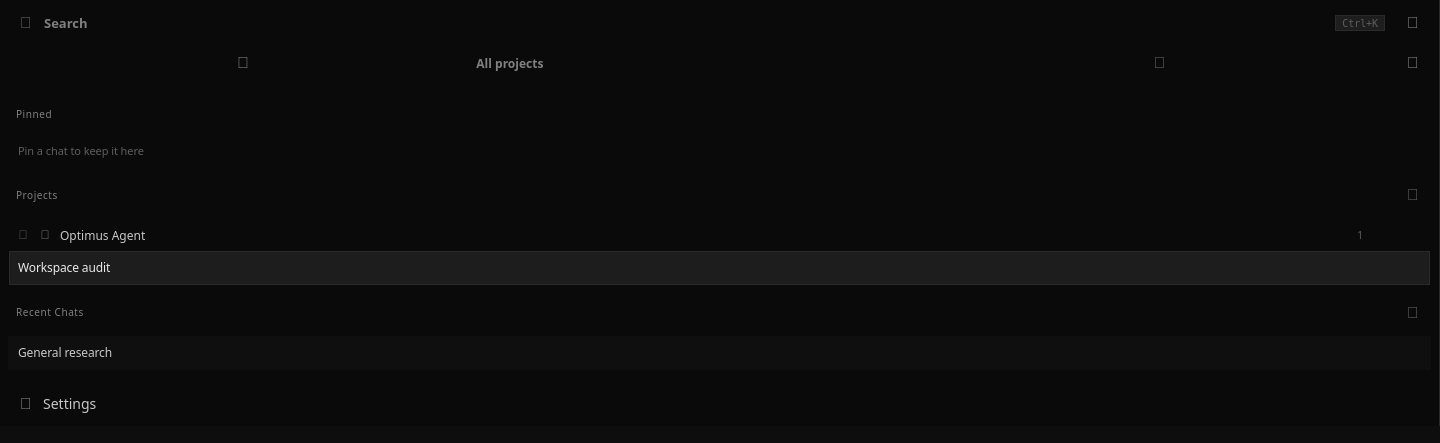
Scenario: ProjectsRail session actions › filters the flat thread queue from the project scope control
expect the button titled "Workspace audit" is shown: met, box [10, 252, 1429, 284]
expect the button titled "Workspace audit" does not show "Optimus Agent": met, box [10, 252, 1429, 284]
Click the button " All projects ". click: (510, 63)
box: [10, 47, 1393, 79]
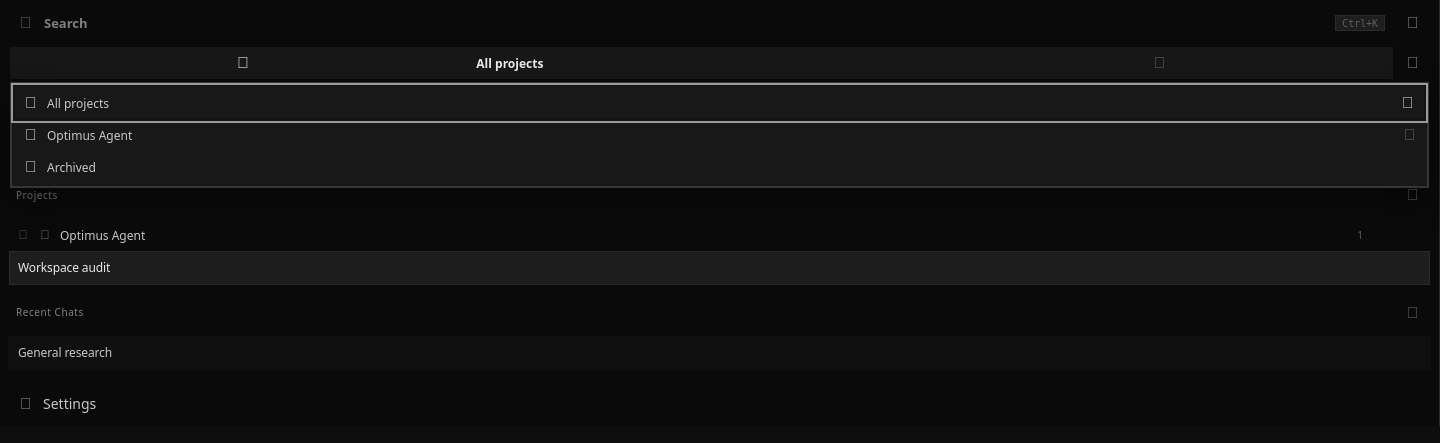
Click the menu item " Optimus Agent". click: (90, 135)
box: [15, 119, 1396, 151]
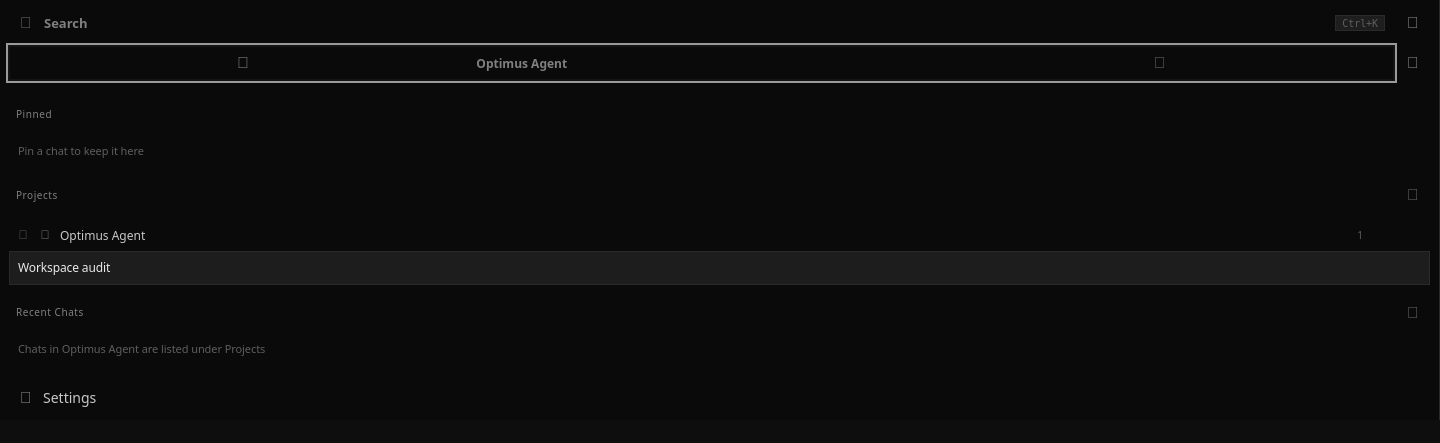
expect the button titled "Workspace audit" is shown: met, box [10, 252, 1429, 284]
expect the button titled "General research" is gone: met
expect the button " Optimus Agent " is collapsed: met, box [10, 47, 1393, 79]
